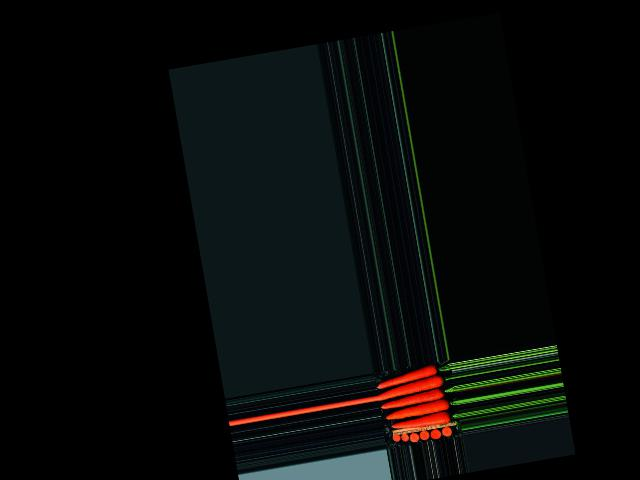carrot: (387, 410, 457, 436)
